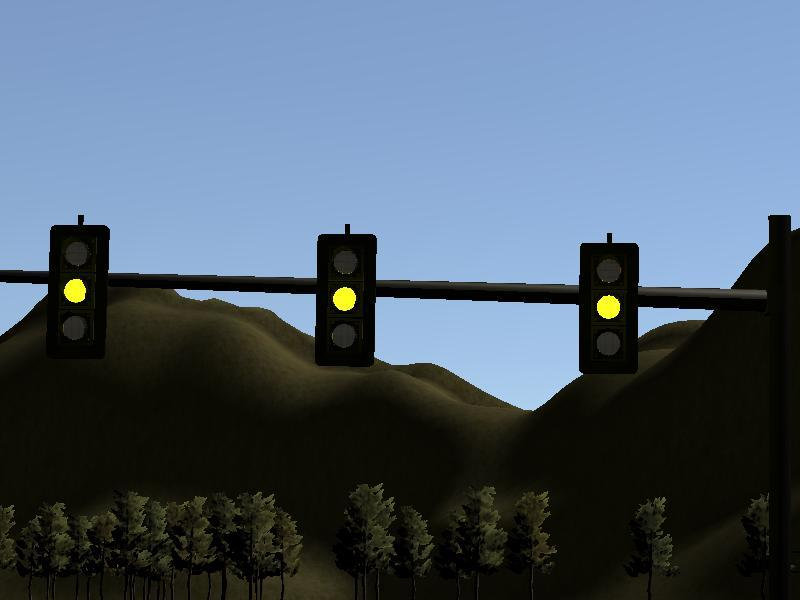Yellow: (49, 224, 109, 357), (579, 243, 639, 373), (317, 235, 376, 366)
